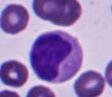M: (30, 29, 84, 83)
